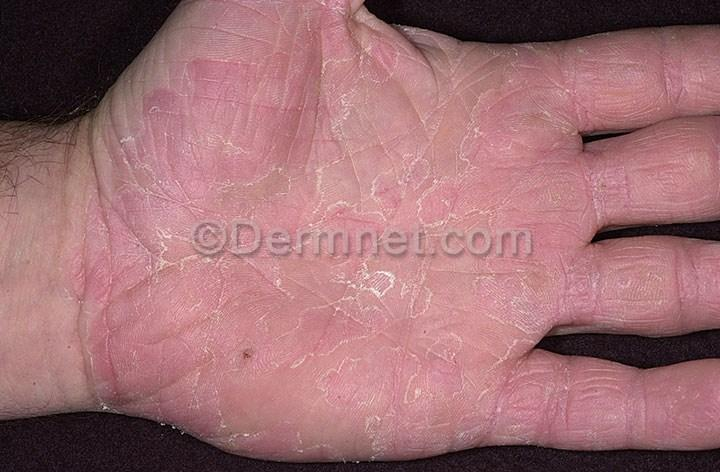Eczema: (121, 56, 310, 227), (314, 57, 494, 229), (189, 264, 372, 423), (390, 259, 534, 448), (34, 232, 184, 386), (497, 48, 600, 225), (521, 360, 629, 465), (607, 119, 698, 226), (537, 235, 638, 317), (608, 35, 704, 117), (641, 239, 720, 320), (633, 370, 720, 442)
